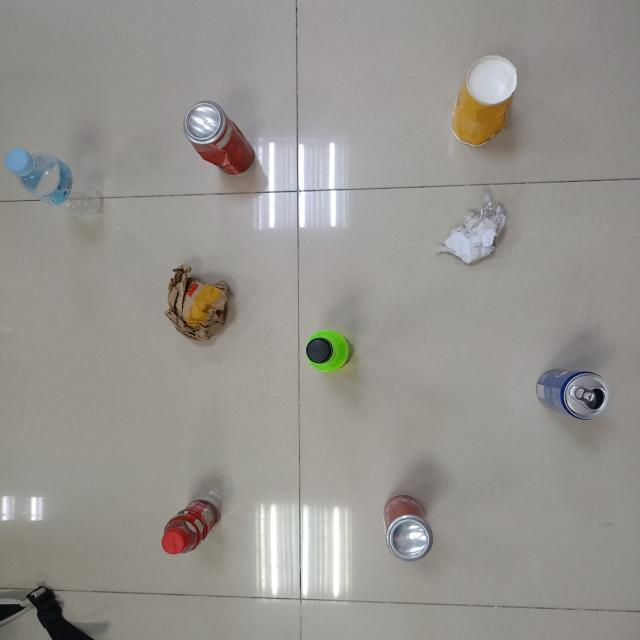recyclable waste: (0, 143, 107, 225), (446, 48, 528, 150), (176, 94, 260, 180), (158, 258, 236, 347), (430, 189, 515, 269), (530, 362, 616, 423), (379, 487, 436, 566), (158, 493, 226, 558), (300, 322, 357, 378)
